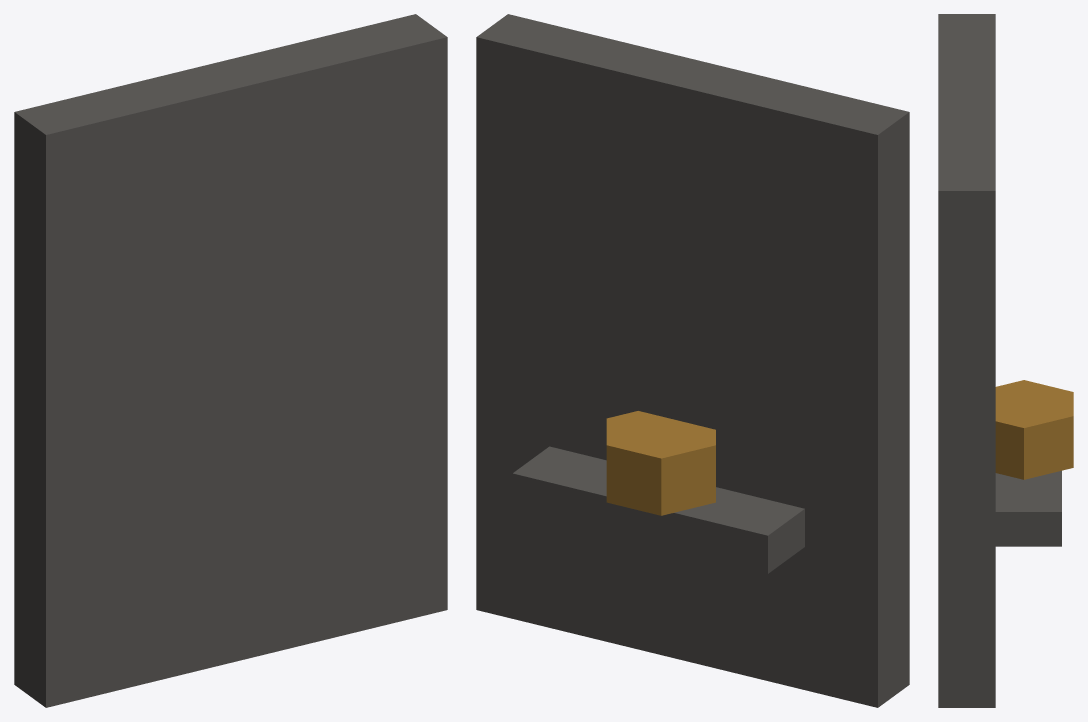
The model's file is niche_fixture.obj.
The picture shows the model from 3 angles, left to right: view 1: azimuth 30°, elevation 25°; view 2: azimuth 150°, elevation 25°; view 3: azimuth 270°, elevation 25°; orthographic projection. The views are drawn at different scales.
Parts seen in each view (by area): view 1: niche_fixture; view 2: niche_fixture; view 3: niche_fixture.
Part boxes in pixels (<box>): niche_fixture: <box>14,14,447,707</box>; niche_fixture: <box>476,14,909,707</box>; niche_fixture: <box>938,14,1073,707</box>.
Size of the model in its own units: 0.44 by 0.6 by 0.142.
